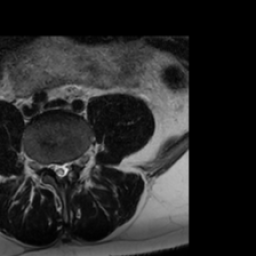CCS_severe_stenosis: (58, 156, 64, 185)
LFS_stenosis: (69, 151, 79, 172)
LLS_normal: (64, 156, 71, 177)
RFS_severe_stenosis: (42, 156, 50, 174)
RLS_normal: (51, 157, 58, 177)
